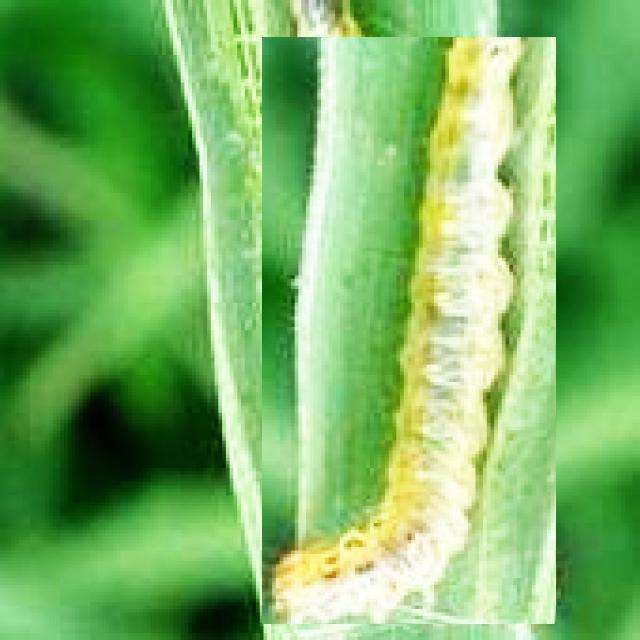leaf-folder: (263, 37, 557, 624)
